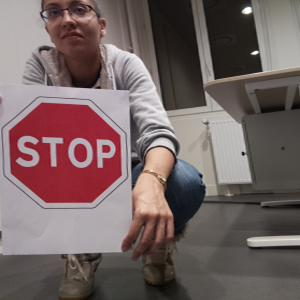stop: (3, 96, 128, 209)
